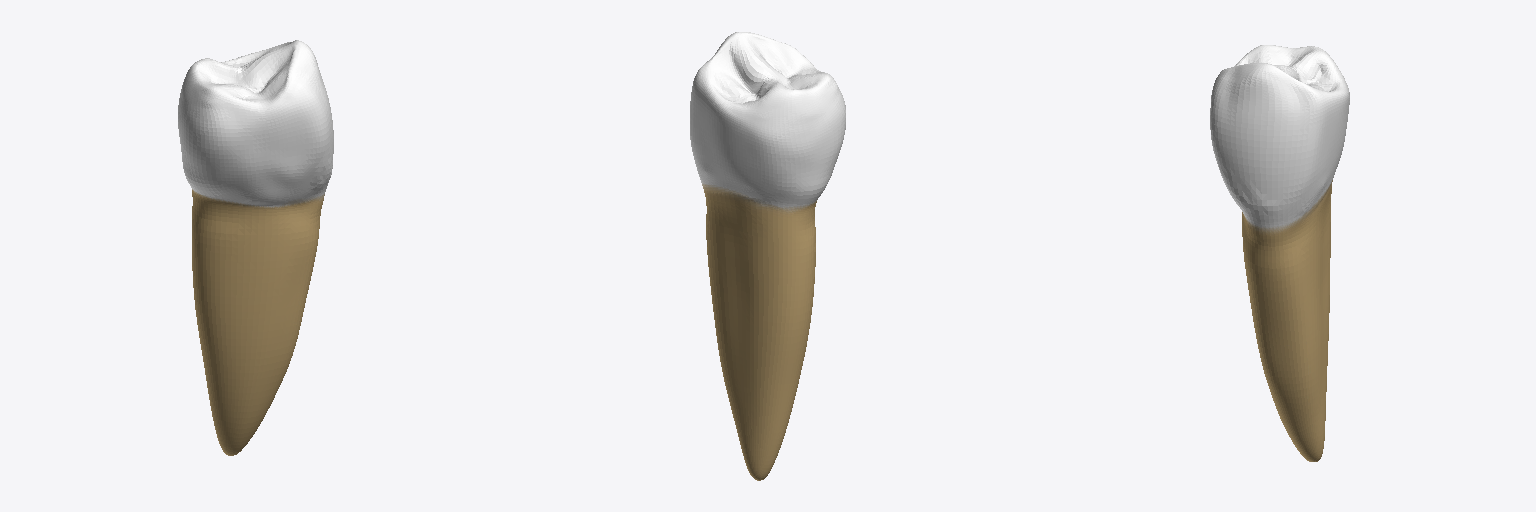
The picture shows the model from 3 angles: view 1: azimuth 30°, elevation 25°; view 2: azimuth 150°, elevation 25°; view 3: azimuth 270°, elevation 25°; orthographic projection.
Visible parts, largest first — view 1: outer; view 2: outer; view 3: outer.
Part boxes in pixels (x1,y1,x2,y2): outer: (178, 40, 333, 455); outer: (690, 32, 845, 480); outer: (1210, 45, 1349, 461).
Bounding box in the file's own units: 3.31 × 9.66 × 2.92.
Materials: 2 (1 with a texture image).